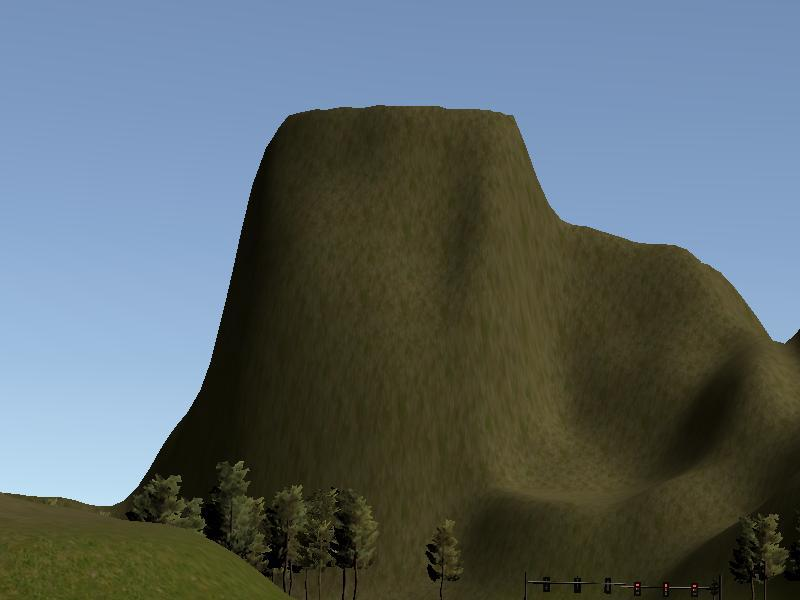Red: (689, 580, 700, 599), (662, 580, 671, 599), (634, 581, 642, 597)
